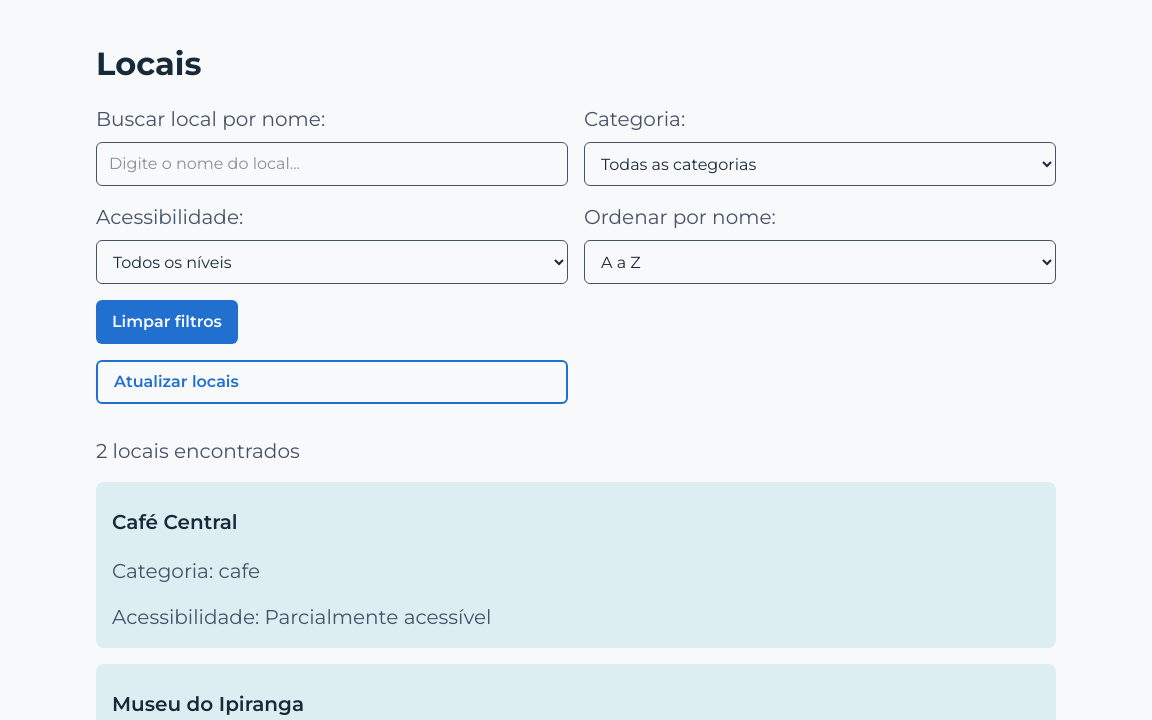
Test: Página Locais - atualização manual › atualiza a listagem ignorando o cache, sem recarregar a página
Expected: the heading "Locais" is shown, [96,44,202,83]
Click the button "Atualizar locais": [176, 382] box [96,360,568,404]
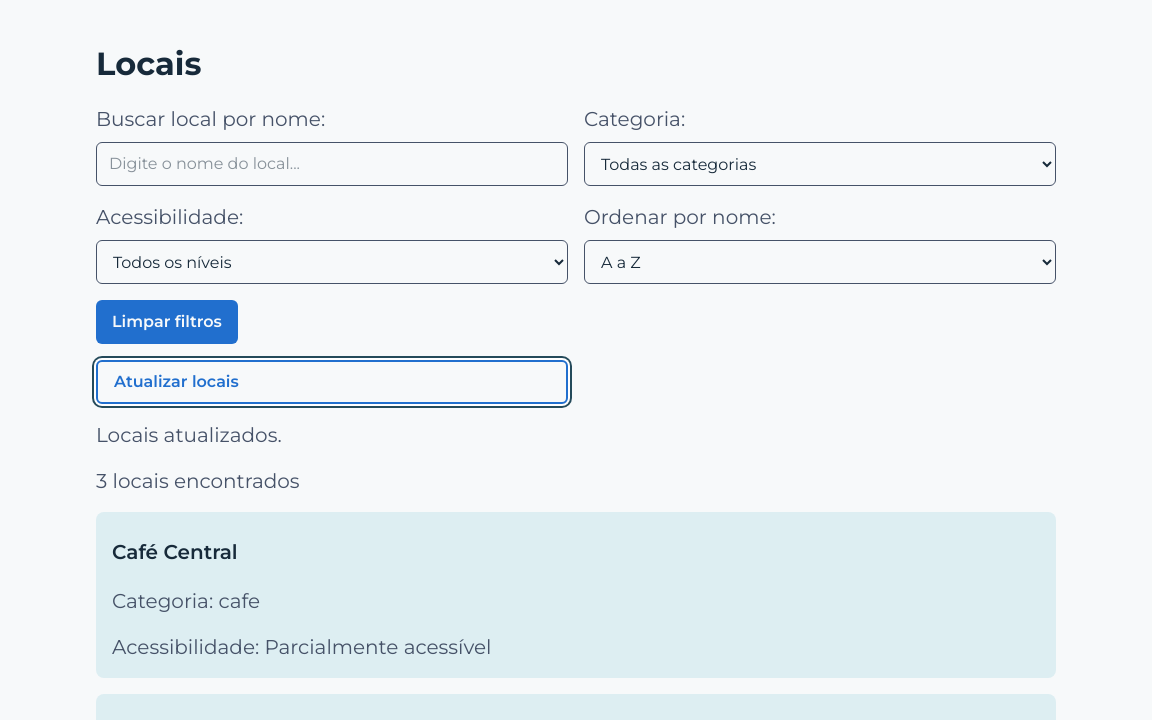
Result: the text "Locais atualizados." is shown at [96,423,282,447]
